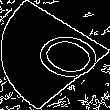O_SE: (8, 22, 102, 88)
